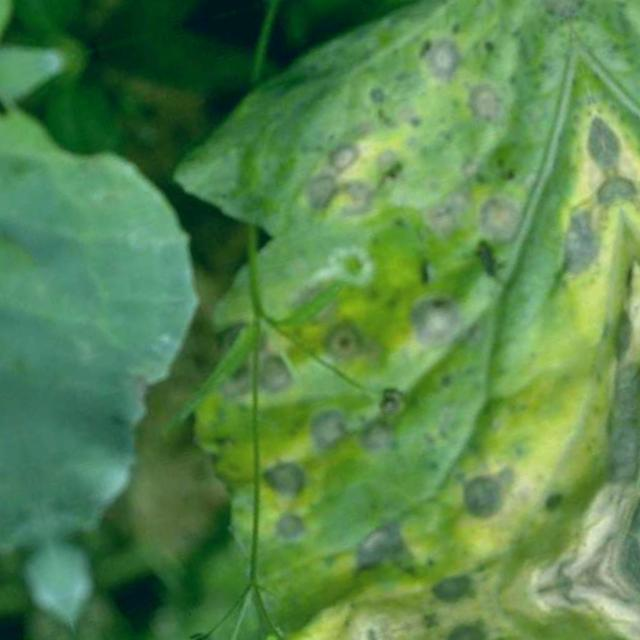Tomato leaf bacterial spot: (66, 0, 640, 640)
